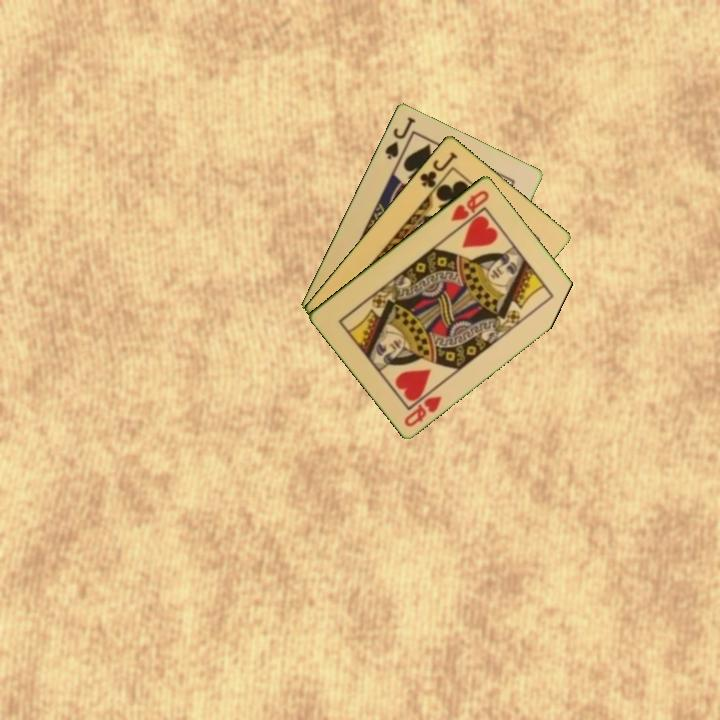Jc: (416, 148, 461, 190)
Js: (381, 113, 418, 162)
Qh: (447, 186, 492, 224), (401, 392, 445, 429)
